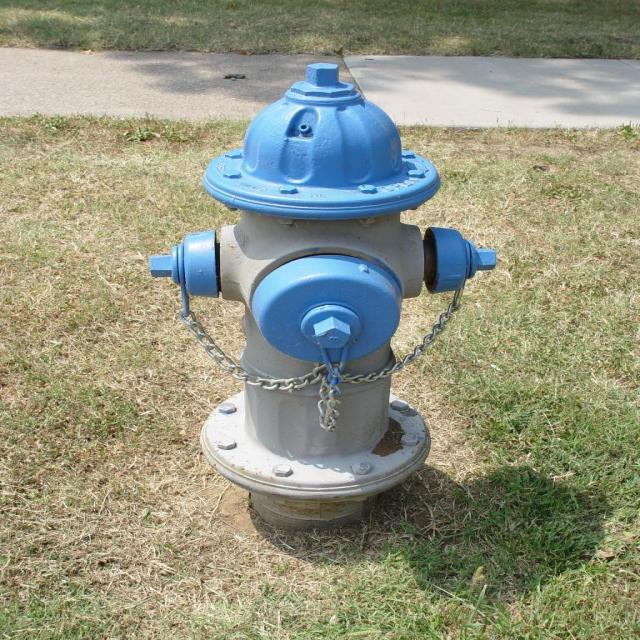fire_hydrant: (154, 62, 494, 536)
